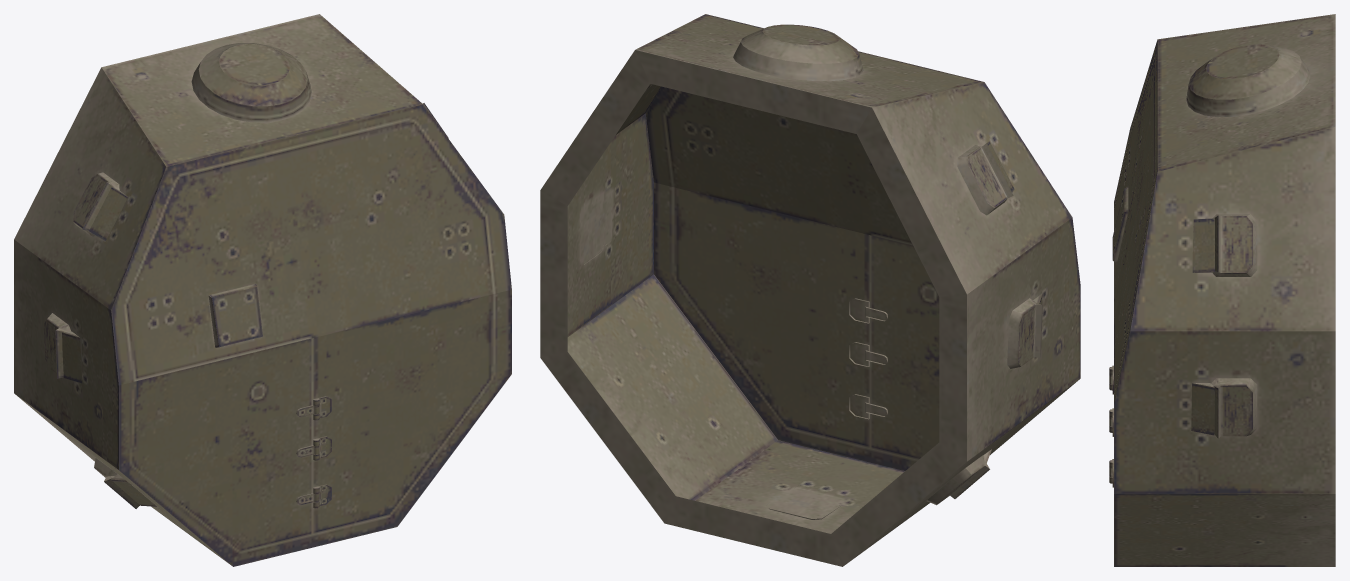
The model's file is Turret_02.glb.
3 views of the same model, side by side, from view 1: azimuth 30°, elevation 25°; view 2: azimuth 150°, elevation 25°; view 3: azimuth 270°, elevation 25° (orthographic). The views are drawn at different scales.
Visible parts, largest first — view 1: set_0_group_0; view 2: set_0_group_0; view 3: set_0_group_0.
Boxes of the visible parts, bbox=[...] form: set_0_group_0: bbox=[14, 14, 511, 566]; set_0_group_0: bbox=[540, 14, 1080, 566]; set_0_group_0: bbox=[1109, 14, 1335, 566].
Bounding box in the file's own units: 1.56 × 1.61 × 0.6849.
Materials: 1 (1 with a texture image).
